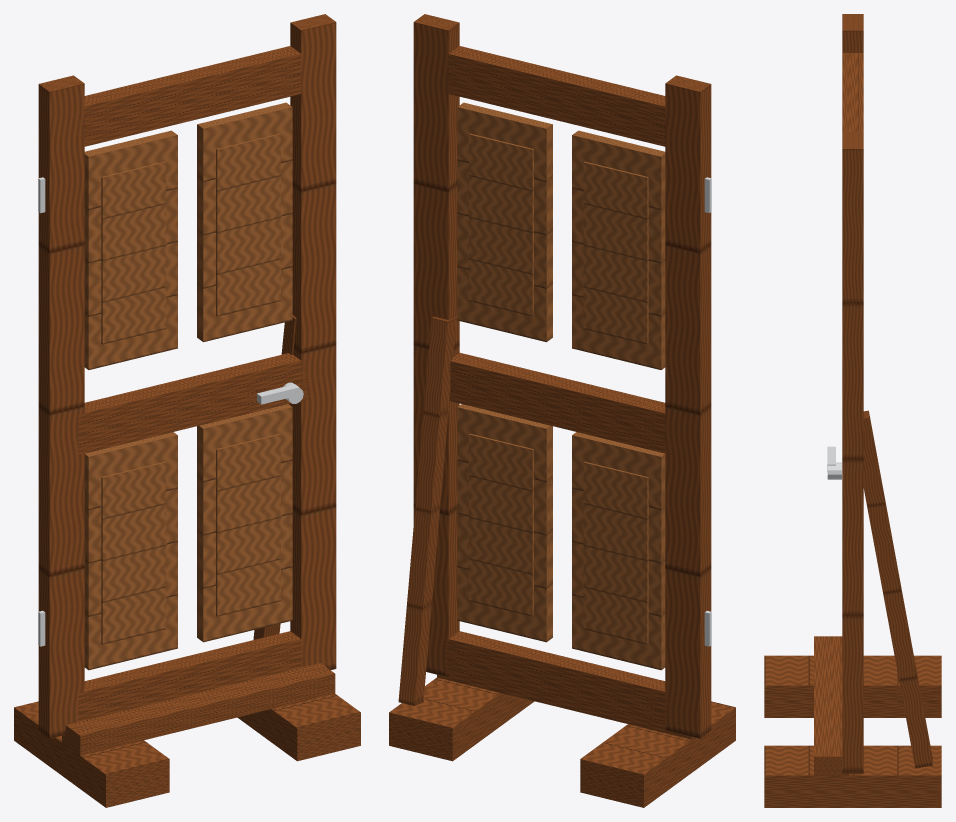
File: woodworking-workshop-and-joinery-woodworking-workshop--b5fbe5fd__34263.glb
3 renders of one model, left to right at view 1: azimuth 30°, elevation 25°; view 2: azimuth 150°, elevation 25°; view 3: azimuth 270°, elevation 25°, orthographic. The views are drawn at different scales.
Parts seen in each view (by area): view 1: woodworking-workshop-and-joinery-panelled-door-on-stand; view 2: woodworking-workshop-and-joinery-panelled-door-on-stand; view 3: woodworking-workshop-and-joinery-panelled-door-on-stand.
Boxes of the visible parts, box(x1,y1,x2,y2) form: woodworking-workshop-and-joinery-panelled-door-on-stand: box(14, 14, 360, 807); woodworking-workshop-and-joinery-panelled-door-on-stand: box(389, 14, 735, 807); woodworking-workshop-and-joinery-panelled-door-on-stand: box(764, 14, 941, 807).
Bounding box in the file's own units: 0.9149 × 2.07 × 0.5001.
Materials: 3 (2 with a texture image).
